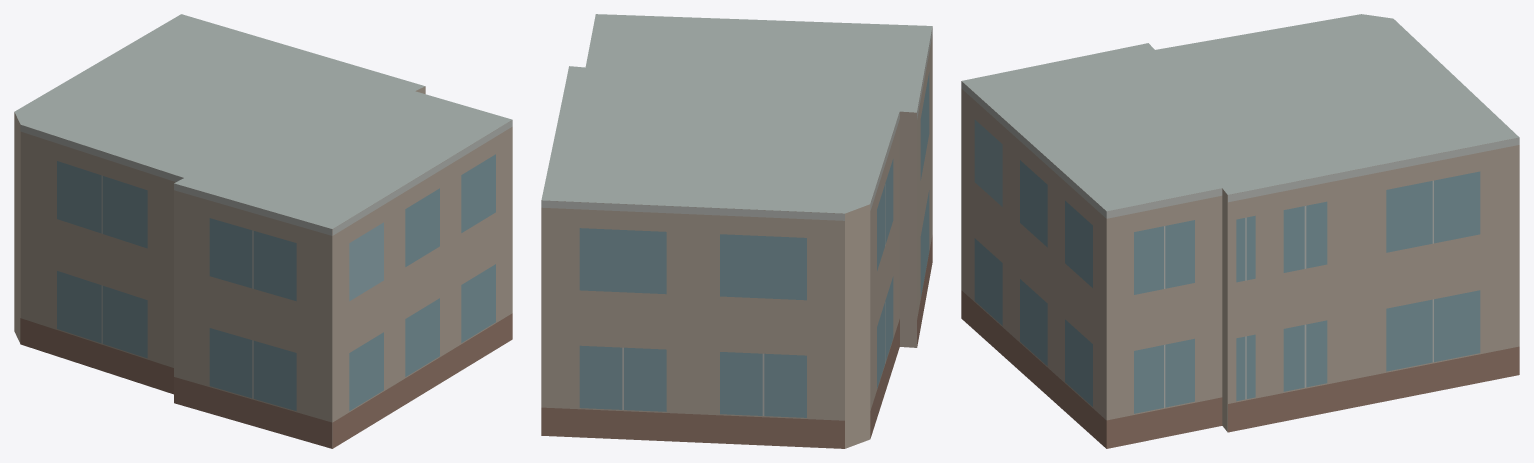
File: survey-upis-32896433.glb
The picture shows the model from 3 angles, left to right: view 1: azimuth 30°, elevation 25°; view 2: azimuth 150°, elevation 25°; view 3: azimuth 270°, elevation 25°; orthographic projection. The views are drawn at different scales.
Parts seen in each view (by area): view 1: survey-upis-32896433.tmp; view 2: survey-upis-32896433.tmp; view 3: survey-upis-32896433.tmp.
Boxes of the visible parts, <box> form: survey-upis-32896433.tmp: <box>14,14,512,448</box>; survey-upis-32896433.tmp: <box>541,14,932,448</box>; survey-upis-32896433.tmp: <box>961,14,1519,448</box>.
Bounding box in the file's own units: 13.91 × 7.8 × 16.62.
